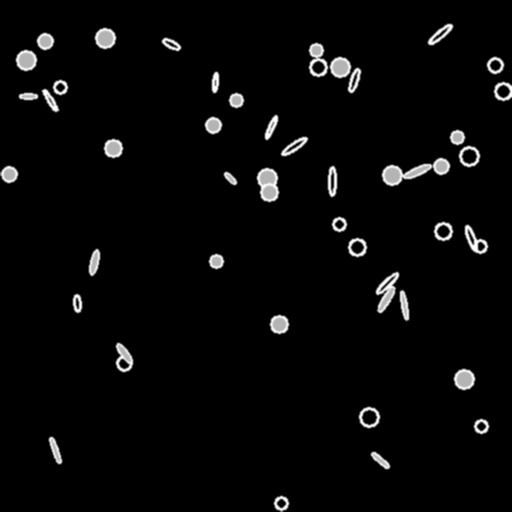pseudomonas: (374, 271, 400, 295), (427, 22, 453, 46), (376, 285, 396, 313), (281, 136, 307, 156), (403, 163, 431, 179), (41, 88, 59, 112), (115, 342, 133, 364), (48, 437, 62, 463), (464, 225, 478, 251), (370, 451, 390, 469), (347, 68, 361, 92), (264, 115, 278, 139), (88, 249, 100, 275), (399, 290, 409, 320), (161, 37, 181, 51), (328, 166, 336, 196), (223, 171, 237, 185), (73, 295, 81, 311), (212, 72, 218, 92), (20, 93, 36, 99)
synechocystis: (258, 169, 276, 187), (331, 58, 349, 76), (96, 29, 114, 47), (460, 147, 478, 165), (455, 370, 473, 388), (360, 408, 378, 426), (17, 51, 35, 69), (383, 166, 401, 184), (349, 239, 365, 255), (495, 83, 511, 99), (271, 316, 287, 332), (261, 184, 277, 200), (105, 140, 121, 156), (310, 59, 326, 75), (435, 223, 451, 239), (2, 167, 16, 181), (488, 58, 502, 72), (117, 356, 131, 370), (206, 118, 220, 132), (38, 34, 52, 48), (434, 159, 448, 173), (54, 81, 66, 93), (475, 420, 487, 432), (230, 94, 242, 106), (333, 218, 345, 230), (310, 44, 322, 56), (474, 240, 486, 252), (275, 497, 287, 509), (451, 131, 463, 143), (210, 255, 222, 267)
